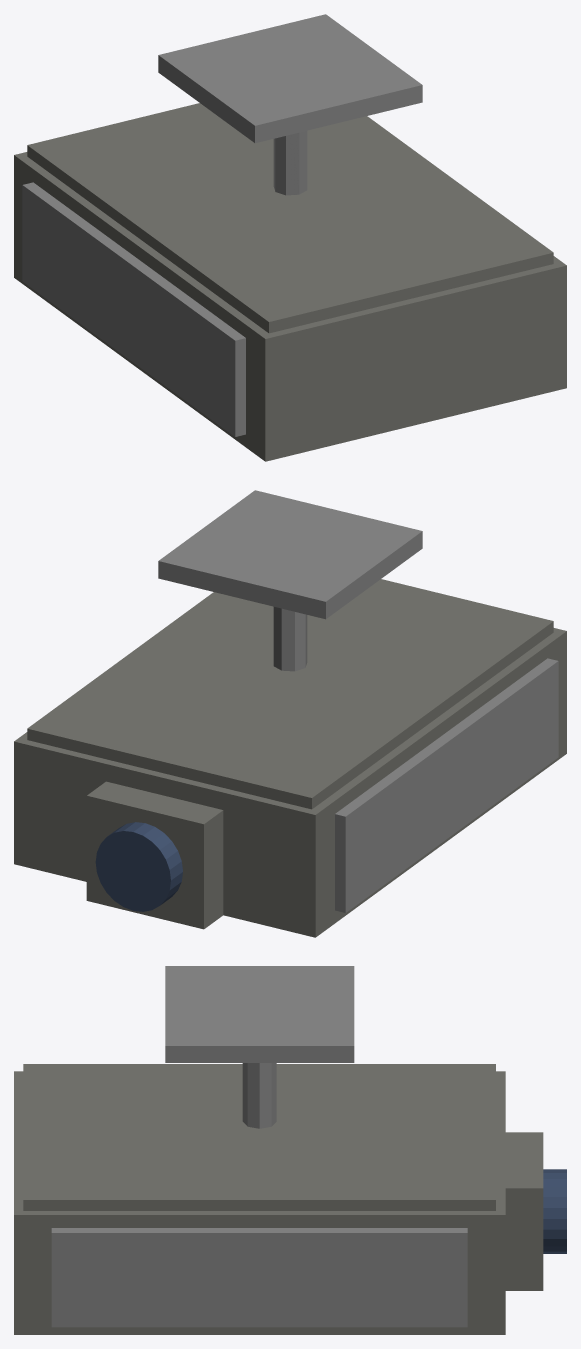
File: Prop_Projector_Ceiling_01.fbx
The picture shows the model from 3 angles, top to bottom: view 1: azimuth 30°, elevation 25°; view 2: azimuth 150°, elevation 25°; view 3: azimuth 270°, elevation 25°; orthographic projection. The views are drawn at different scales.
Parts seen in each view (by area): view 1: Prop_Projector_Ceiling_01; view 2: Prop_Projector_Ceiling_01; view 3: Prop_Projector_Ceiling_01.
Boxes of the visible parts, x1,y1,x2,y2 form: Prop_Projector_Ceiling_01: [14, 14, 566, 461]; Prop_Projector_Ceiling_01: [14, 490, 566, 937]; Prop_Projector_Ceiling_01: [14, 966, 566, 1334].
Size of the model in its own units: 0.386 by 0.3 by 0.585.
